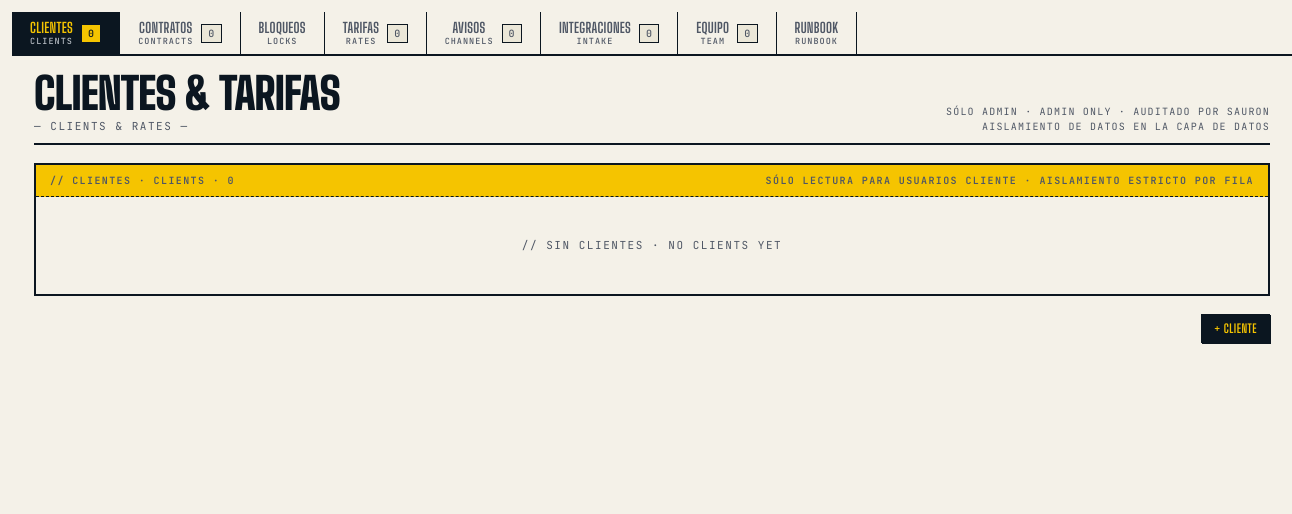
Test: SettingsPage › shows the inline create error when the client create mutation rejects
This screenshot has width=1292, height=514.
Expected: the text "// sin clientes · no clients yet" is shown, [522,237,782,254]
Click the button "+ Cliente". click: {"x": 1236, "y": 329}
box: [1201,314,1270,343]
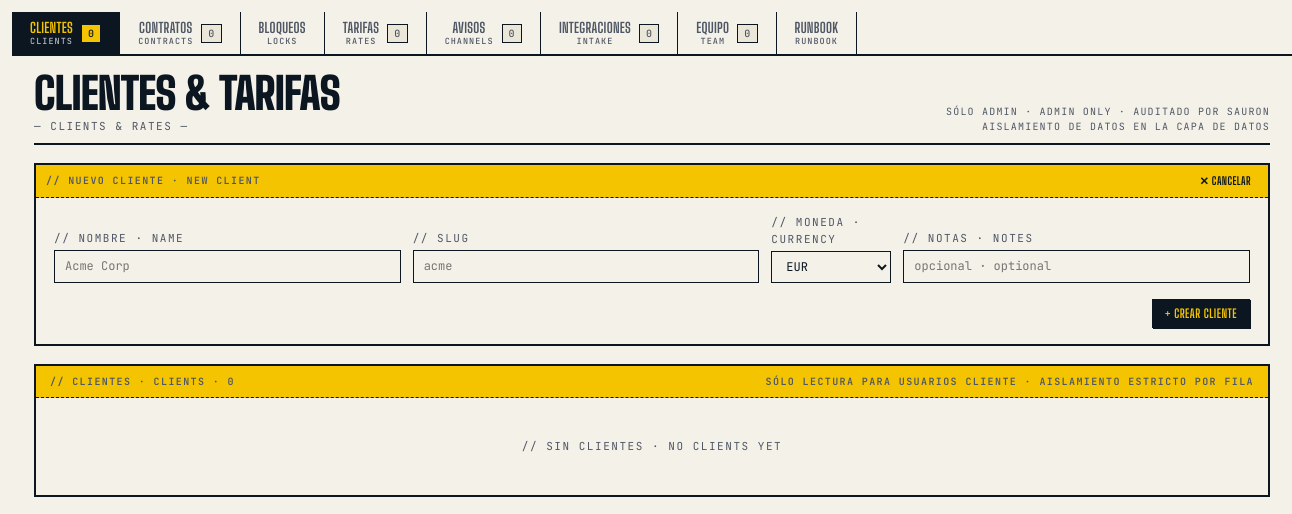
Type "X" into the field with placeholder "Acme Corp". click: {"x": 227, "y": 266}
box: [54,250,401,283]
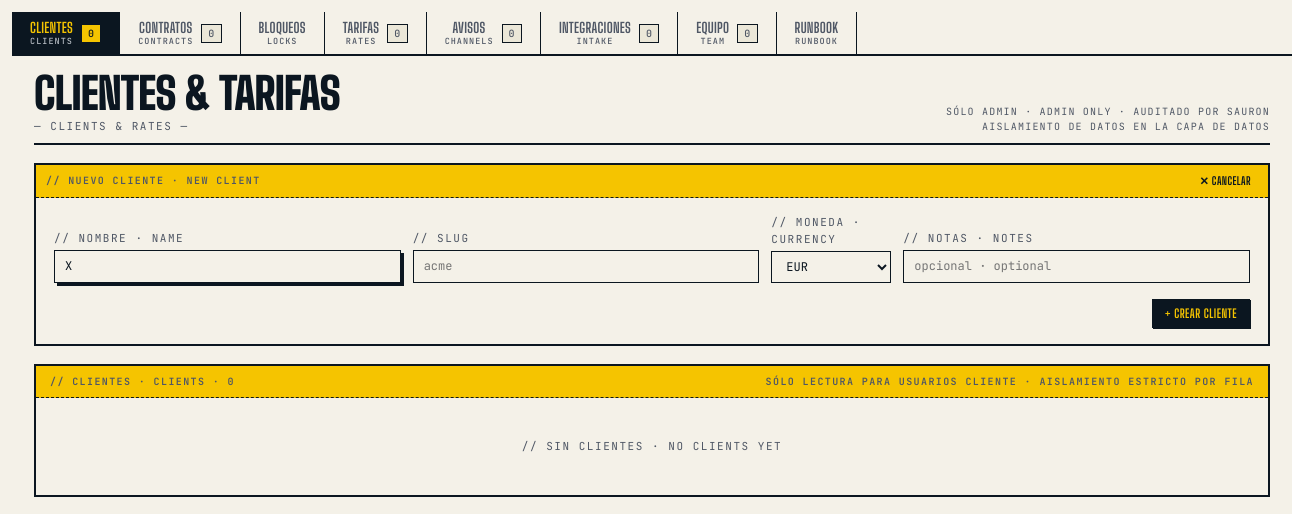
Type "x" into the field with placeholder "acme". click: {"x": 586, "y": 266}
box: [413,250,759,283]
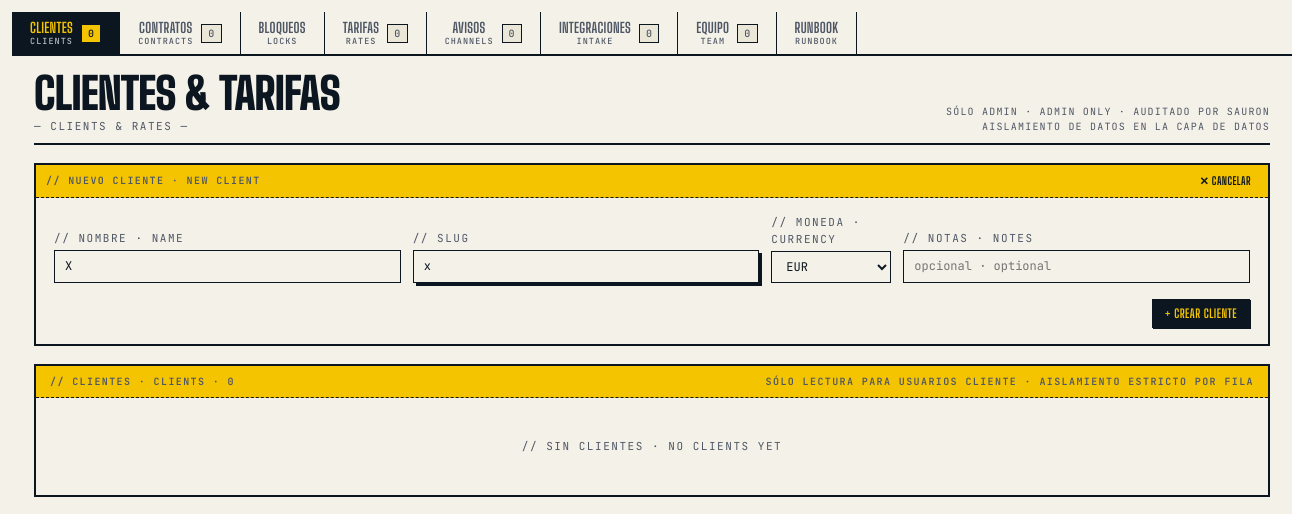
Click the button "+ Crear Cliente". click: {"x": 1201, "y": 313}
box: [1152,299,1250,328]
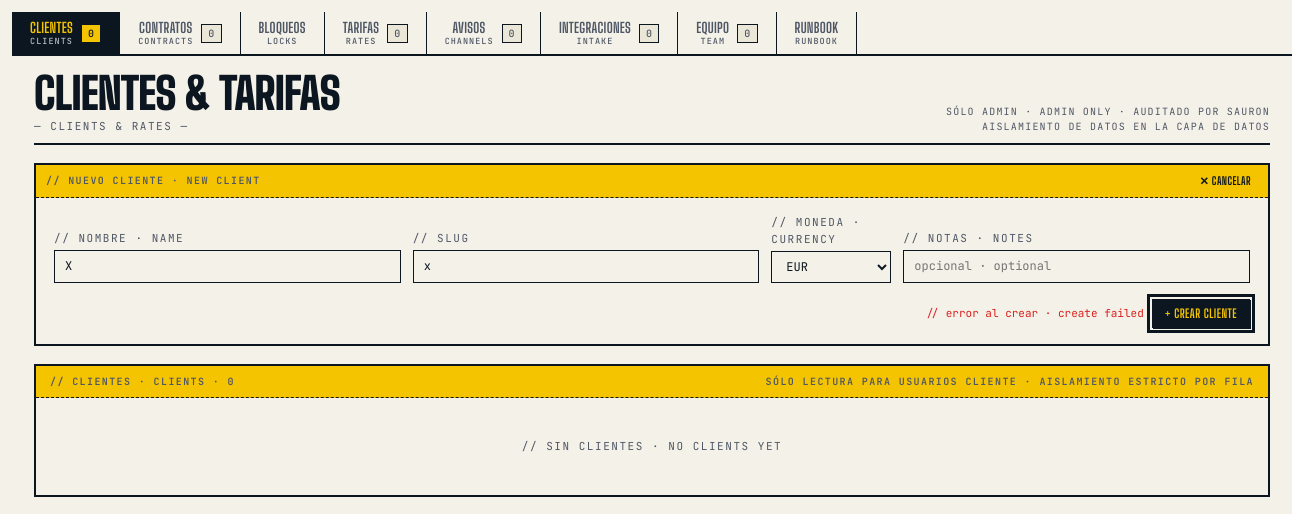
Now the text "// error al crear · create failed" is shown, box [926,305,1144,322]
